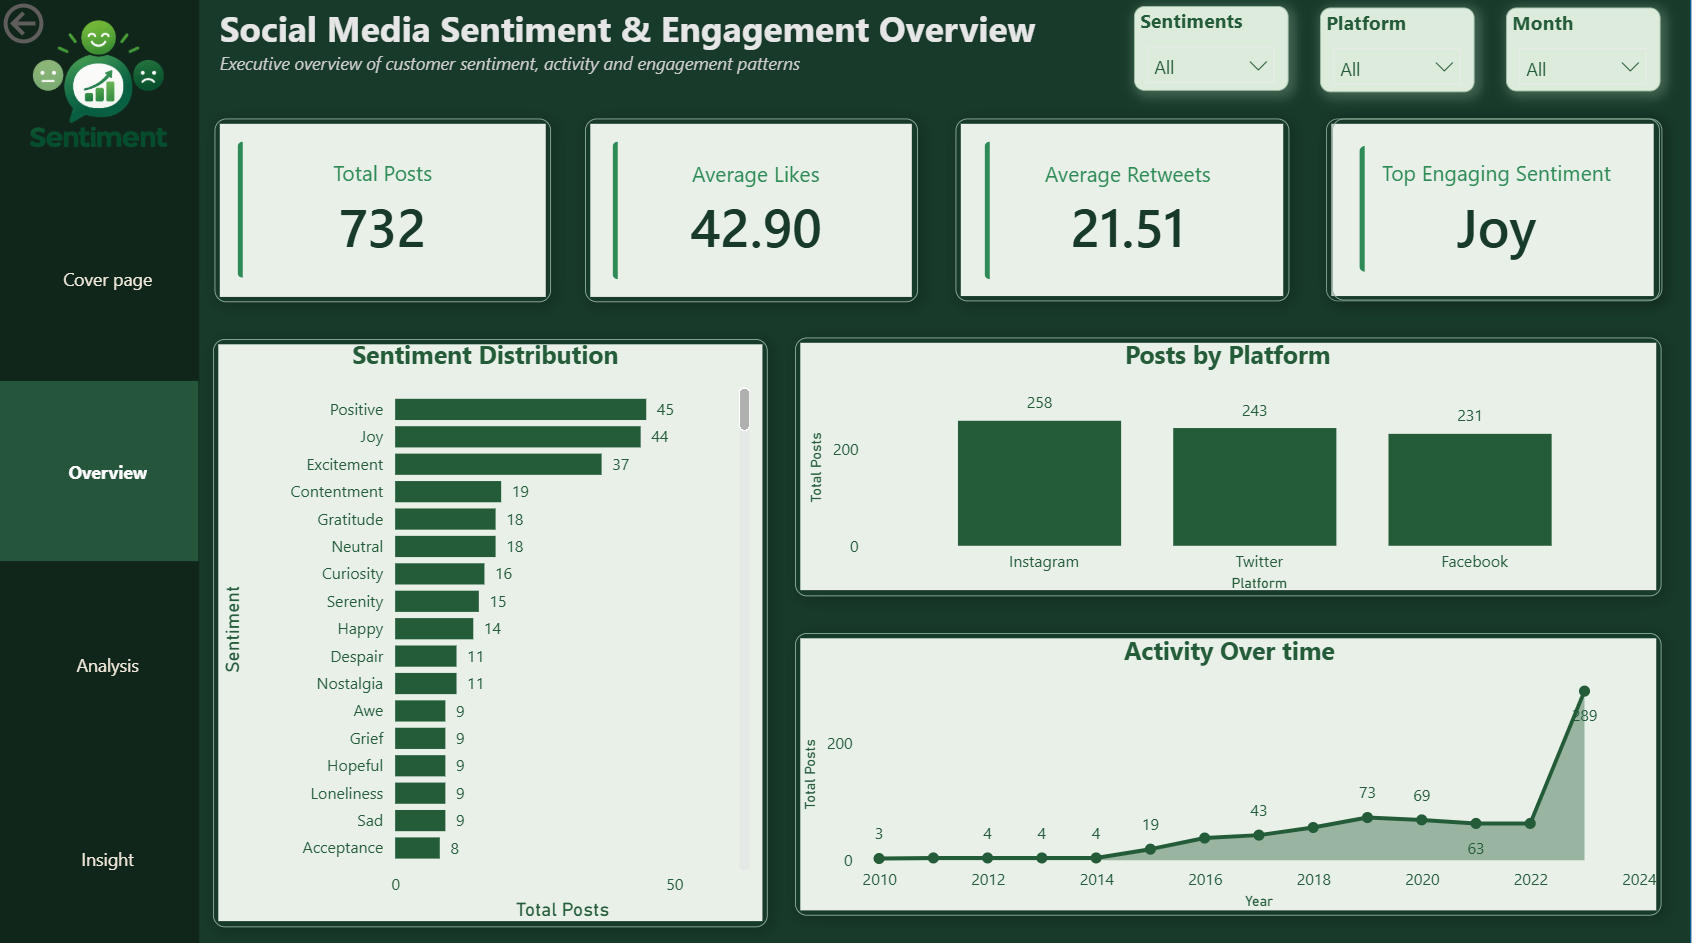

What the dashboard file says about the page in this screenshot:
{"tool":"powerbi","page":{"name":" Overview","canvas":[1280,720],"ordinal":0},"visuals":[{"type":"shape","box":[0,1.6,1279,718.4],"z":0},{"type":"shape","box":[0,0,152.9,719.2],"z":1000},{"type":"shape","box":[1003.3,91.7,251.8,138.2],"z":2000},{"type":"shape","box":[163,258.1,418.9,443.8],"z":3000},{"type":"shape","box":[602.7,480,654.1,213.5],"z":4000},{"type":"shape","box":[602.7,257.4,654.1,195.3],"z":5000},{"type":"textbox","box":[163.5,0,1116,74.2],"z":6000},{"type":"cardVisual","fields":{"Data":["3) Sentiment dataset.Top Engaging Sentiment"]},"box":[1007.4,91.6,249.5,137.4],"z":7000},{"type":"clusteredBarChart","title":"Sentiment Distribution","fields":{"Category":["3) Sentiment dataset.Sentiment"],"Y":["3) Sentiment dataset.Total Posts"]},"box":[156.2,257,416.6,443.8],"z":8000},{"type":"clusteredColumnChart","title":"Posts by Platform","fields":{"Category":["3) Sentiment dataset.Platform"],"Y":["3) Sentiment dataset.Total Posts"]},"box":[607.9,257,641.9,195.8],"z":9000},{"type":"actionButton","box":[0,0,100,40],"z":10000},{"type":"lineChart","title":"Activity Over time","fields":{"Category":["3) Sentiment dataset.Year","3) Sentiment dataset.Month"],"Y":["3) Sentiment dataset.Total Posts"]},"box":[603,480.3,653.3,213],"z":11000},{"type":"slicer","title":"Month","fields":{"Values":["3) Sentiment dataset.Month"]},"box":[1138.7,7.8,116.6,63.6],"z":12000},{"type":"slicer","title":"Platform","fields":{"Values":["3) Sentiment dataset.Platform"]},"box":[998.7,7.6,116.6,64.1],"z":13000},{"type":"slicer","title":"Sentiments","fields":{"Values":["3) Sentiment dataset.Sentiment"]},"box":[858.7,7.3,116.6,64.1],"z":14000},{"type":"pageNavigator","box":[0,143.8,152.8,575.1],"z":15000},{"type":"shape","box":[443.7,91.6,251.1,138.9],"z":16000},{"type":"shape","box":[723.5,91.7,251.8,138.2],"z":17000},{"type":"shape","box":[164.2,91.6,254.2,138.9],"z":18000},{"type":"cardVisual","fields":{"Data":["3) Sentiment dataset.Average Likes"]},"box":[447.4,91.6,251.1,138.9],"z":19000},{"type":"cardVisual","fields":{"Data":["3) Sentiment dataset.Average Retweets"]},"box":[727.4,91.6,251.1,138.9],"z":20000},{"type":"cardVisual","fields":{"Data":["3) Sentiment dataset.Total Posts"]},"box":[164.2,91.6,254.2,137.4],"z":21000},{"type":"image","box":[0,1.5,153.1,129.7],"z":22000}]}

Visuals, with their boxes on the page's 1280x720 design canvas (x1, y1, x2, y2). These are canvas units, not pixel positions in the 1693x943 screenshot, which may show the page scaled, cropped or inside an application window:
shape: {"x1": 0, "y1": 2, "x2": 1279, "y2": 720}
shape: {"x1": 0, "y1": 0, "x2": 153, "y2": 719}
shape: {"x1": 1003, "y1": 92, "x2": 1255, "y2": 230}
shape: {"x1": 163, "y1": 258, "x2": 582, "y2": 702}
shape: {"x1": 603, "y1": 480, "x2": 1257, "y2": 694}
shape: {"x1": 603, "y1": 257, "x2": 1257, "y2": 453}
textbox: {"x1": 164, "y1": 0, "x2": 1280, "y2": 74}
cardVisual - 3) Sentiment dataset.Top Engaging Sentiment: {"x1": 1007, "y1": 92, "x2": 1257, "y2": 229}
"Sentiment Distribution" clusteredBarChart: {"x1": 156, "y1": 257, "x2": 573, "y2": 701}
"Posts by Platform" clusteredColumnChart: {"x1": 608, "y1": 257, "x2": 1250, "y2": 453}
actionButton: {"x1": 0, "y1": 0, "x2": 100, "y2": 40}
"Activity Over time" lineChart: {"x1": 603, "y1": 480, "x2": 1256, "y2": 693}
"Month" slicer: {"x1": 1139, "y1": 8, "x2": 1255, "y2": 71}
"Platform" slicer: {"x1": 999, "y1": 8, "x2": 1115, "y2": 72}
"Sentiments" slicer: {"x1": 859, "y1": 7, "x2": 975, "y2": 71}
pageNavigator: {"x1": 0, "y1": 144, "x2": 153, "y2": 719}
shape: {"x1": 444, "y1": 92, "x2": 695, "y2": 230}
shape: {"x1": 724, "y1": 92, "x2": 975, "y2": 230}
shape: {"x1": 164, "y1": 92, "x2": 418, "y2": 230}
cardVisual - 3) Sentiment dataset.Average Likes: {"x1": 447, "y1": 92, "x2": 698, "y2": 230}
cardVisual - 3) Sentiment dataset.Average Retweets: {"x1": 727, "y1": 92, "x2": 978, "y2": 230}
cardVisual - 3) Sentiment dataset.Total Posts: {"x1": 164, "y1": 92, "x2": 418, "y2": 229}
image: {"x1": 0, "y1": 2, "x2": 153, "y2": 131}
